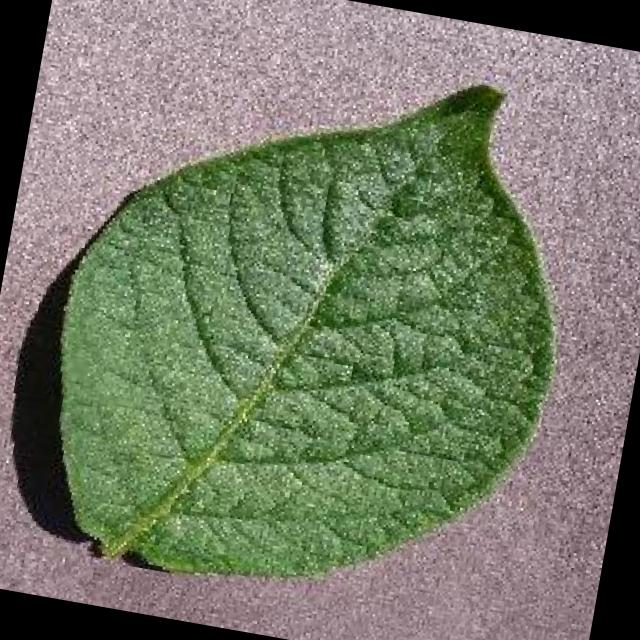healthy: (61, 86, 555, 576)
